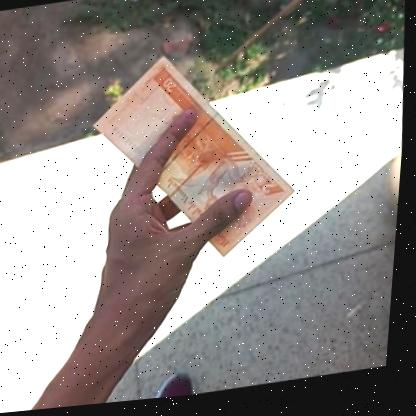twenty-back-vef: (81, 40, 311, 282)
